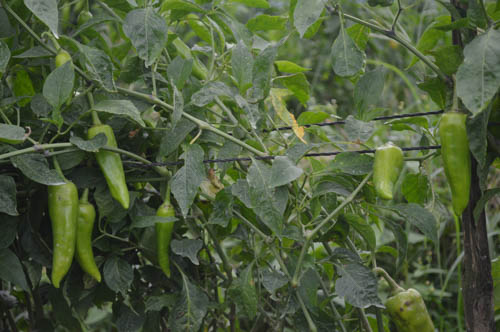ChiliPepper: (45, 184, 79, 286), (439, 116, 471, 215), (90, 128, 130, 207), (74, 205, 101, 280), (374, 148, 404, 202), (387, 292, 429, 330), (156, 210, 175, 275)
